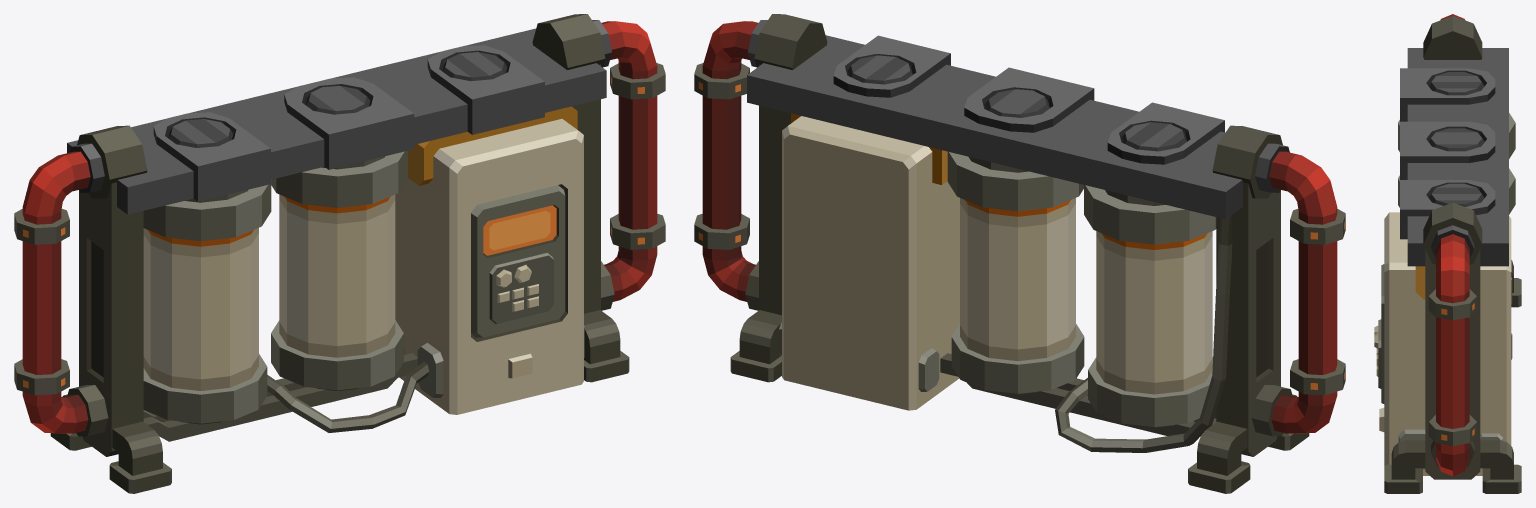
File: CRM_Reactor_FilterUnit.fbx
3 views of the same model, side by side, from view 1: azimuth 30°, elevation 25°; view 2: azimuth 150°, elevation 25°; view 3: azimuth 270°, elevation 25° (orthographic). The views are drawn at different scales.
Parts seen in each view (by area): view 1: CRM_Reactor_FilterUnit, Cylinder.008; view 2: CRM_Reactor_FilterUnit; view 3: CRM_Reactor_FilterUnit, Cylinder.008.
Boxes of the visible parts, <box> form: CRM_Reactor_FilterUnit: <box>14,14,665,493</box>; Cylinder.008: <box>496,265,538,311</box>; CRM_Reactor_FilterUnit: <box>694,14,1345,493</box>; CRM_Reactor_FilterUnit: <box>1378,14,1521,493</box>; Cylinder.008: <box>1374,325,1378,376</box>.
Size of the model in its own units: 3.18 by 1.6 by 0.7496.
